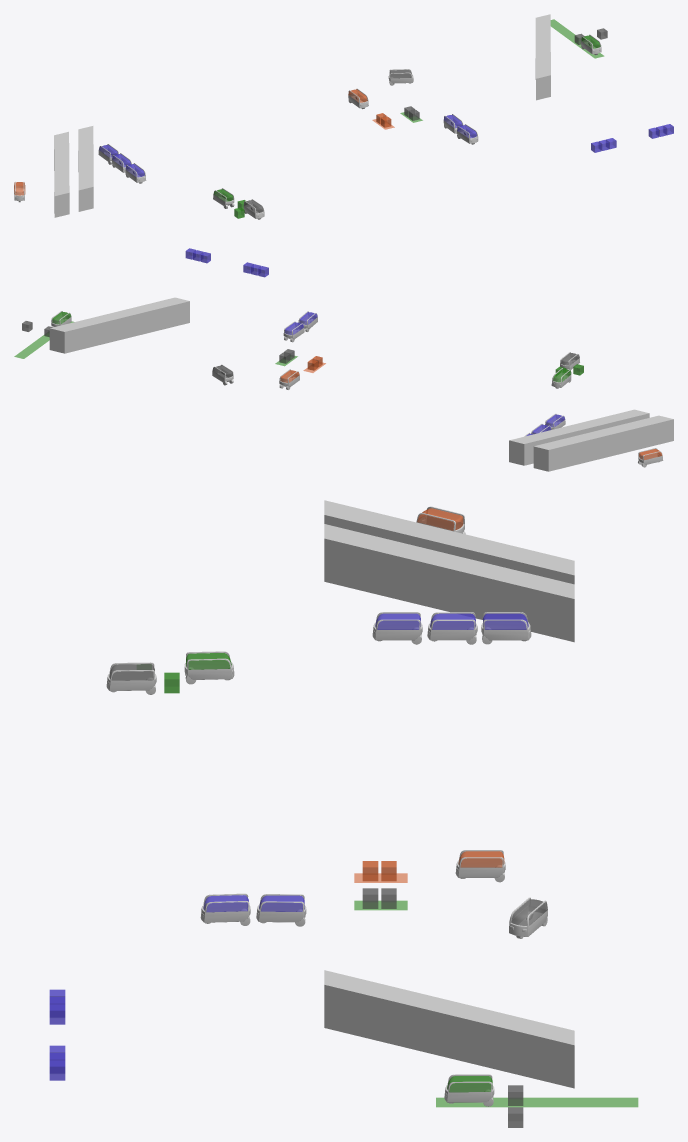
File: HeroModel.glb
3 renders of one model, top to bottom at view 1: azimuth 30°, elevation 25°; view 2: azimuth 150°, elevation 25°; view 3: azimuth 270°, elevation 25°, orthographic. The views are drawn at different scales.
Visible parts, largest first — view 1: Cube, Grey_Car, Purple_Car_5.003; view 2: Cube, Green_Car.002; view 3: Cube, Purple_Car_5.001, Green_Car, Purple_Car_6, Purple_Car_5.002, Purple_Car_5.004, Purple_Car_5.003, Grey_Car.001, Green_Car.001, Orange_Car.001, Grey_Car.
Part boxes in pixels (box(x1,y1,x2,y2)): Cube: box(54, 14, 673, 218); Grey_Car: box(388, 69, 413, 85); Purple_Car_5.003: box(457, 124, 478, 144); Cube: box(14, 248, 673, 471); Green_Car.002: box(638, 448, 663, 467); Cube: box(49, 500, 638, 1127); Purple_Car_5.001: box(427, 612, 477, 644); Green_Car: box(444, 1074, 494, 1106); Purple_Car_6: box(372, 612, 422, 644); Purple_Car_5.002: box(481, 612, 531, 644); Purple_Car_5.004: box(256, 894, 306, 926); Purple_Car_5.003: box(200, 893, 250, 925); Grey_Car.001: box(106, 662, 156, 694); Green_Car.001: box(184, 651, 234, 684); Orange_Car.001: box(455, 850, 505, 882); Grey_Car: box(509, 897, 547, 938).
Size of the model in its own units: 2.83 by 0.0954 by 1.18.
